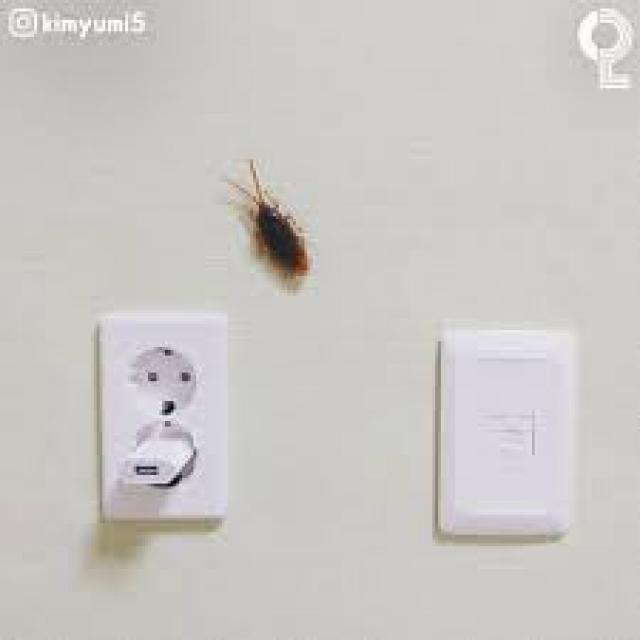Cockroach: (200, 134, 348, 312)
